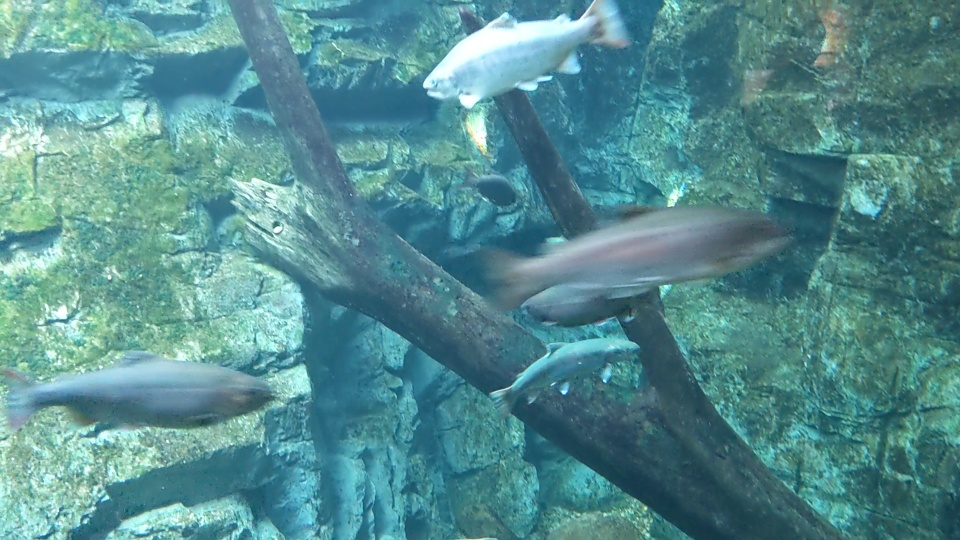Fish: (478, 212, 793, 291), (2, 349, 278, 435), (421, 0, 631, 111), (486, 341, 635, 426), (517, 282, 654, 325), (457, 166, 525, 208)
